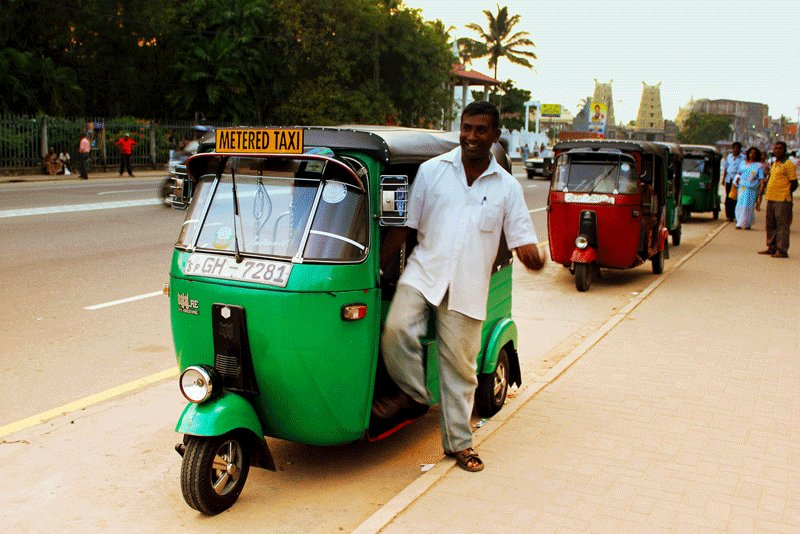tuk tuk: (165, 113, 391, 520), (545, 135, 670, 290), (683, 141, 723, 223)
